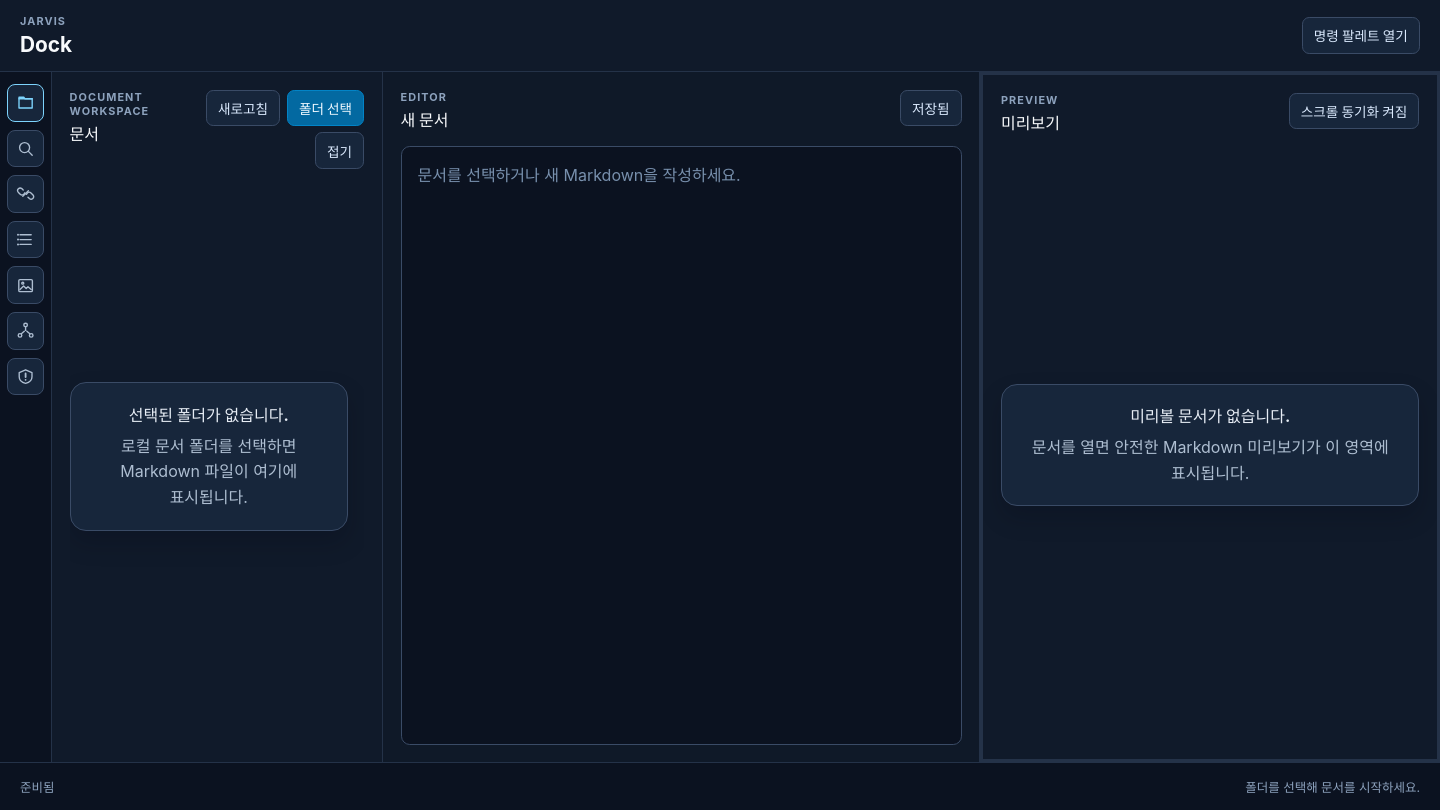
it: App › opens the architecture document panel from the Activity Bar
Click the button named "프로젝트 설계 문서 열기".
click(26, 331)  # box [7,312,44,350]
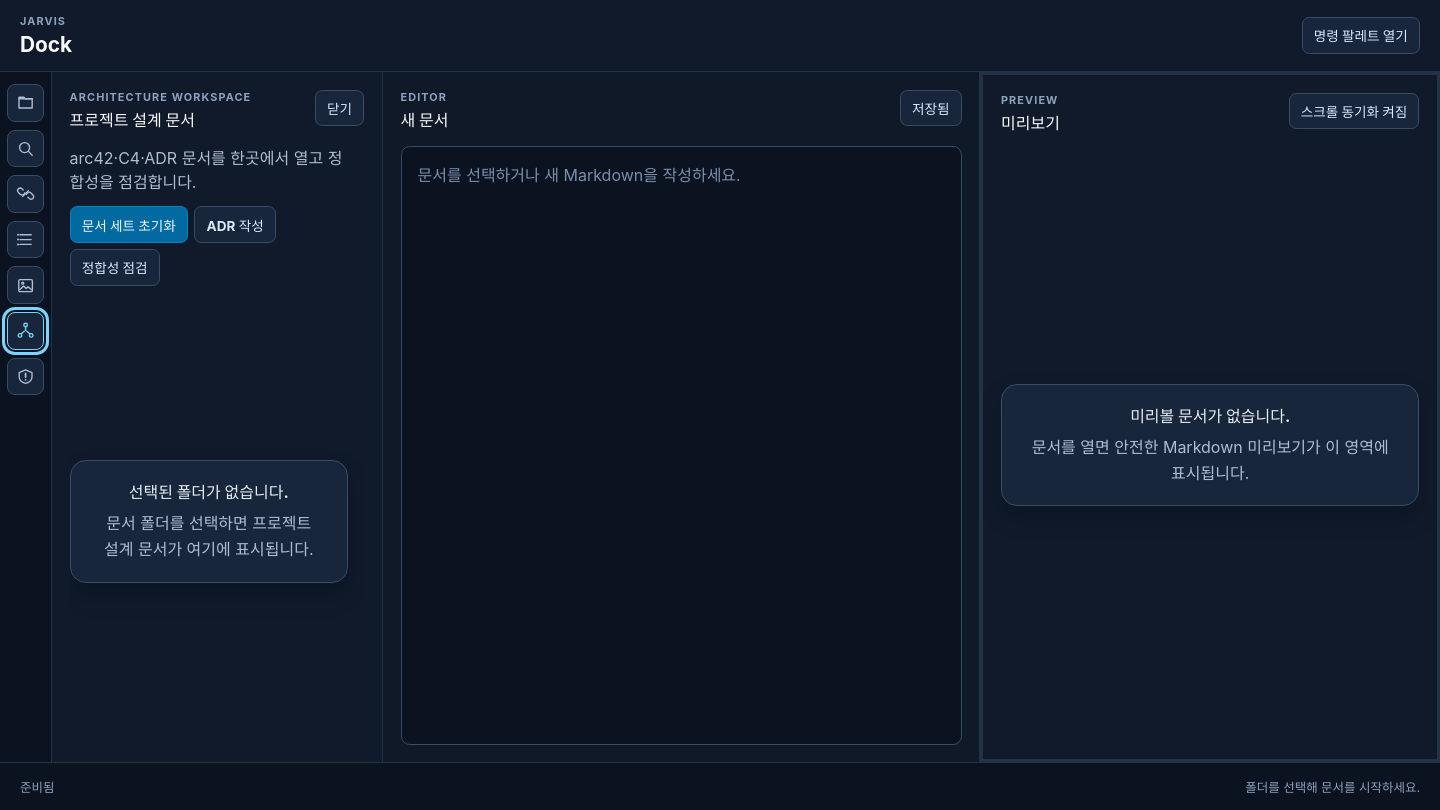
Expected: the element "프로젝트 설계 문서" is shown, [52,72,383,762]
Expected: the button "문서 세트 초기화" is shown, [70,206,188,243]
Expected: the button "정합성 점검" is disabled, [70,249,160,286]
